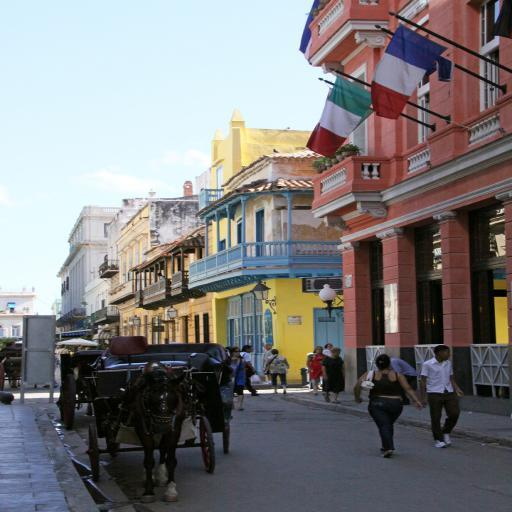horse: (122, 372, 186, 512)
